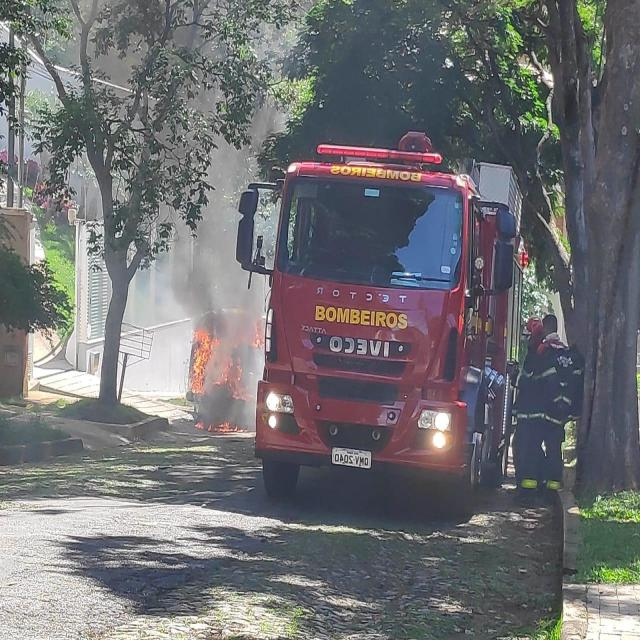Fire: (188, 325, 218, 393), (223, 358, 255, 409), (209, 420, 247, 432), (255, 318, 265, 354), (194, 422, 204, 430)
